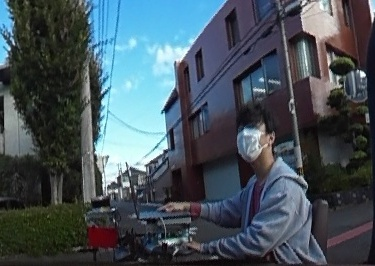person: (197, 103, 313, 266)
